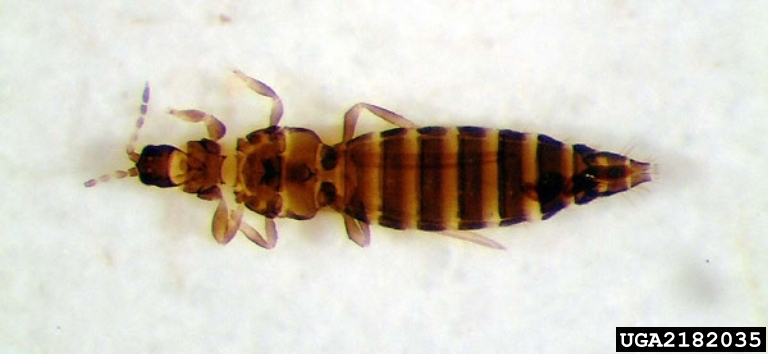Thrips: (90, 42, 709, 275)
